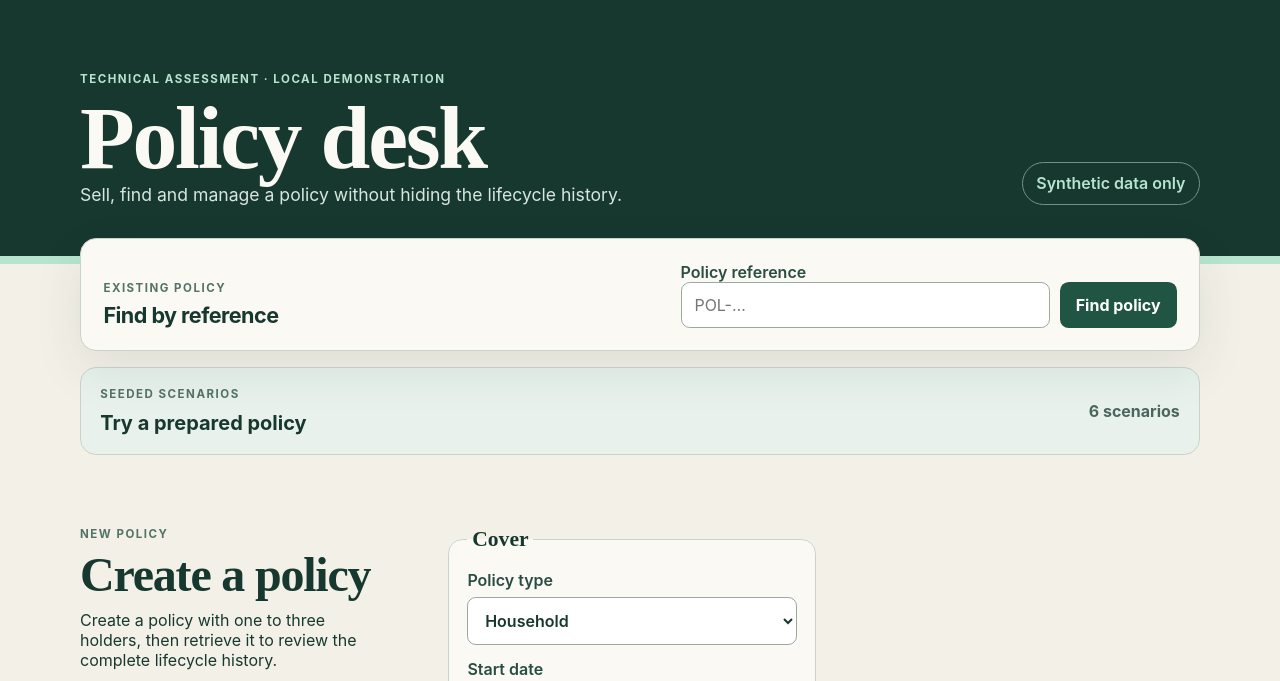
Test: policy desk › creates a manual renewal without sending a payment method
Type "POL-DEMO-MANUAL-HH" into the field labelled "Policy reference".
click(865, 305); type("POL-DEMO-MANUAL-HH")  # box [681,282,1050,328]
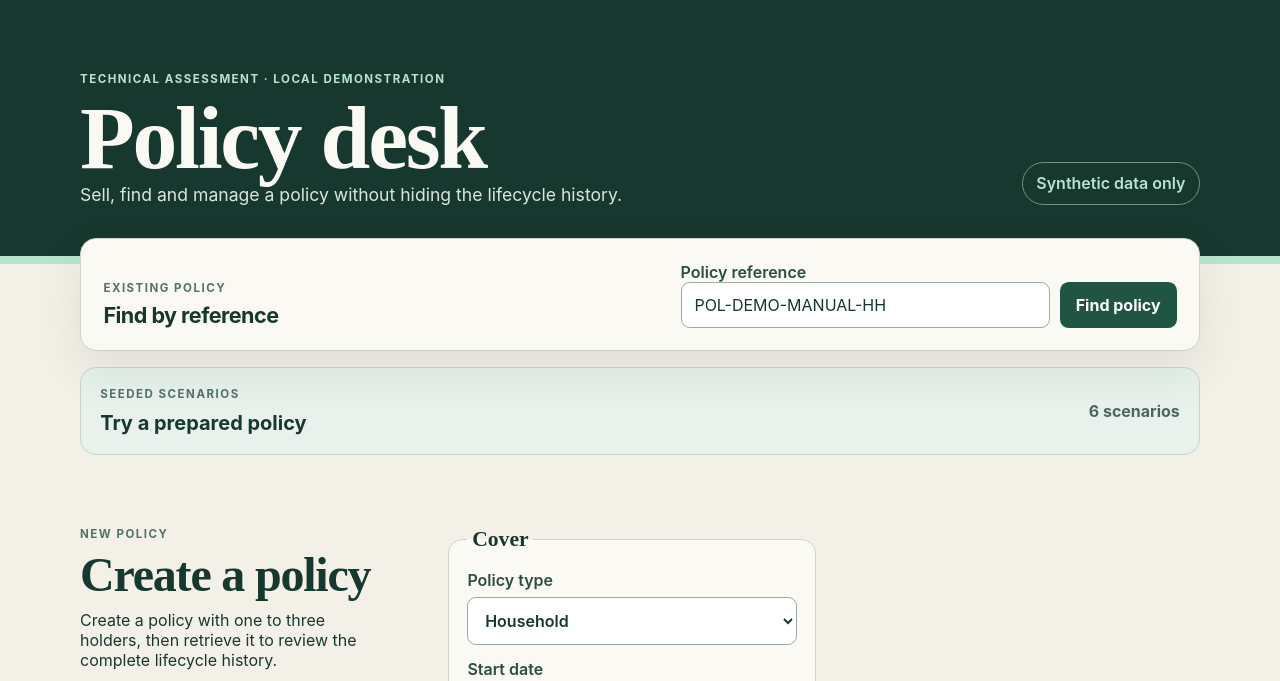
Click the button "Find policy".
click(1118, 305)  # box [1060,282,1177,328]
(page scrolled)
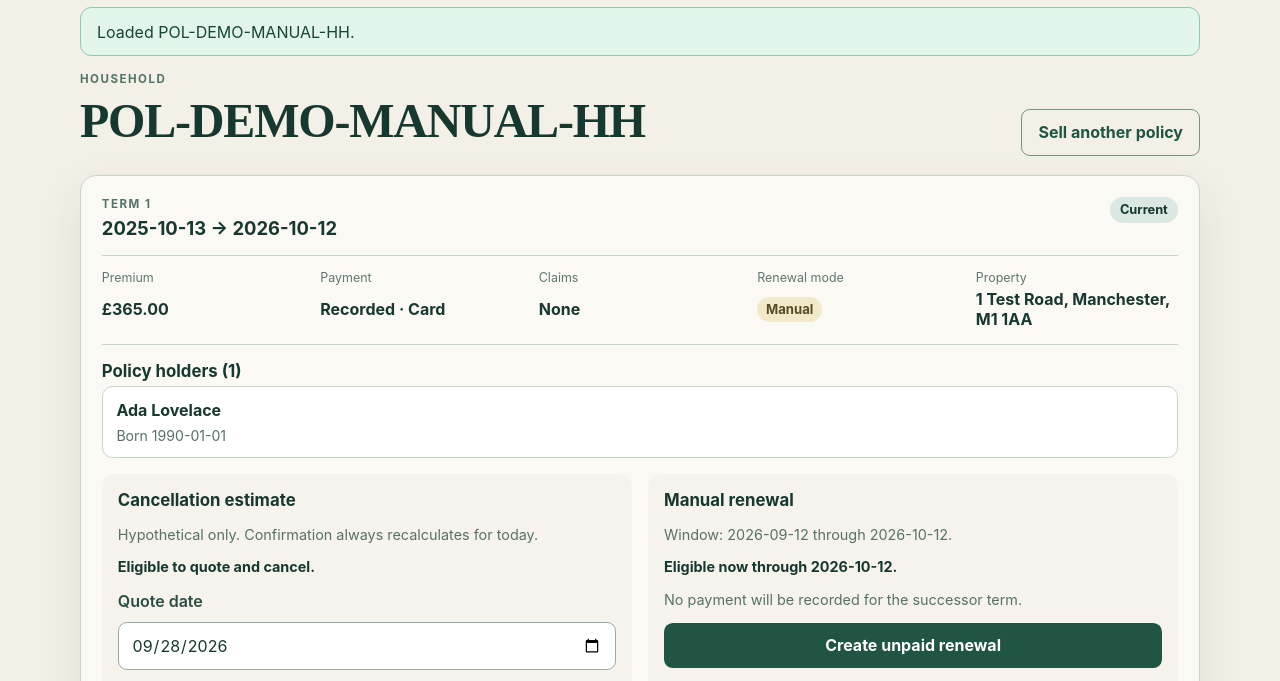
Now the heading "POL-DEMO-MANUAL-HH" is shown, box [80,93,645,148]
Click the button "Create unpaid renewal".
click(913, 645)  # box [664,623,1162,668]
(page scrolled)
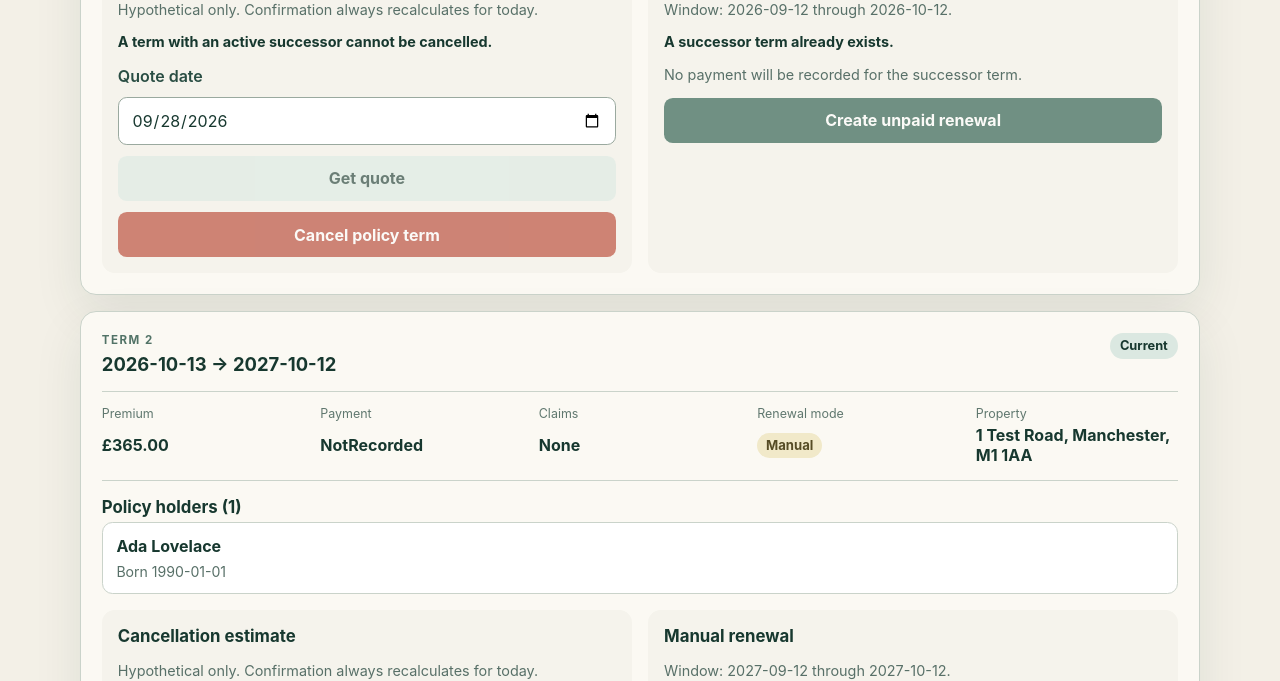
Now the text "NotRecorded" is shown, box [320,435,423,455]
